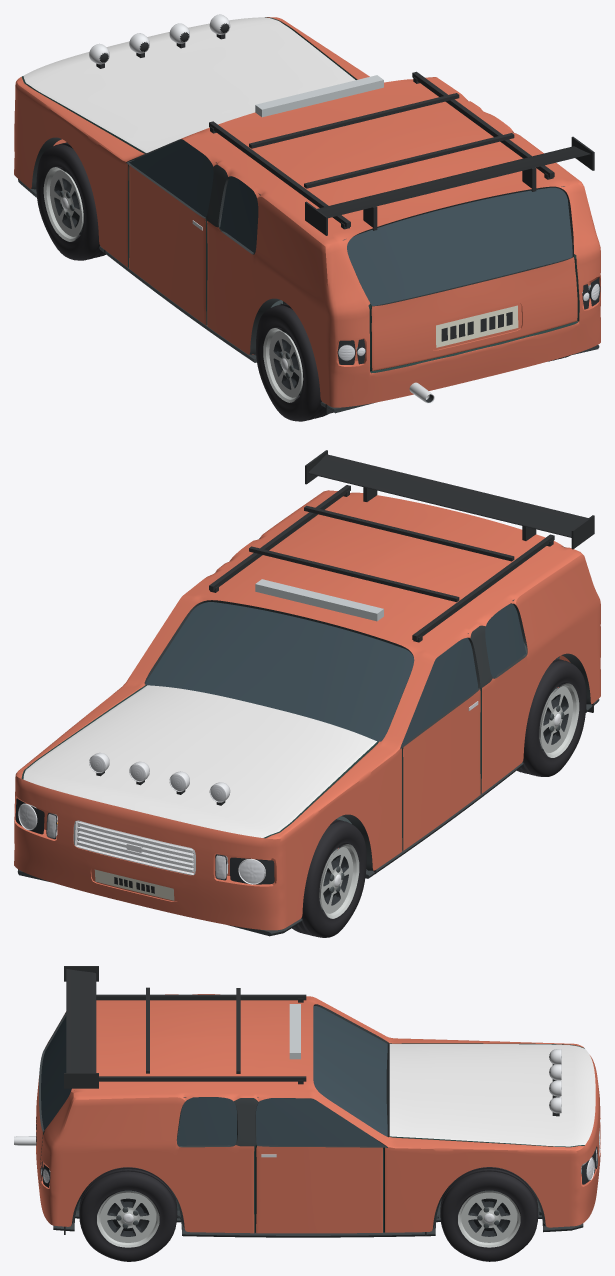
The model's file is forge_closed_rally.fbx.
The picture shows the model from 3 angles, top to bottom: view 1: azimuth 30°, elevation 25°; view 2: azimuth 150°, elevation 25°; view 3: azimuth 270°, elevation 25°; orthographic projection. The views are drawn at different scales.
Parts seen in each view (by area): view 1: Body, Wheel_RL_Mesh, Wheel_FL_Mesh; view 2: Body, Wheel_FL_Mesh, Wheel_RL_Mesh; view 3: Body, Wheel_RR_Mesh, Wheel_FR_Mesh.
Part boxes in pixels (bbox=[...]): Body: bbox=[14, 14, 600, 414]; Wheel_RL_Mesh: bbox=[256, 303, 328, 421]; Wheel_FL_Mesh: bbox=[36, 142, 105, 260]; Body: bbox=[14, 450, 600, 936]; Wheel_FL_Mesh: bbox=[292, 819, 366, 937]; Wheel_RL_Mesh: bbox=[517, 658, 586, 776]; Body: bbox=[14, 966, 600, 1237]; Wheel_RR_Mesh: bbox=[79, 1167, 177, 1261]; Wheel_FR_Mesh: bbox=[440, 1167, 538, 1261].
Size of the model in its own units: 160 by 126 by 355.
